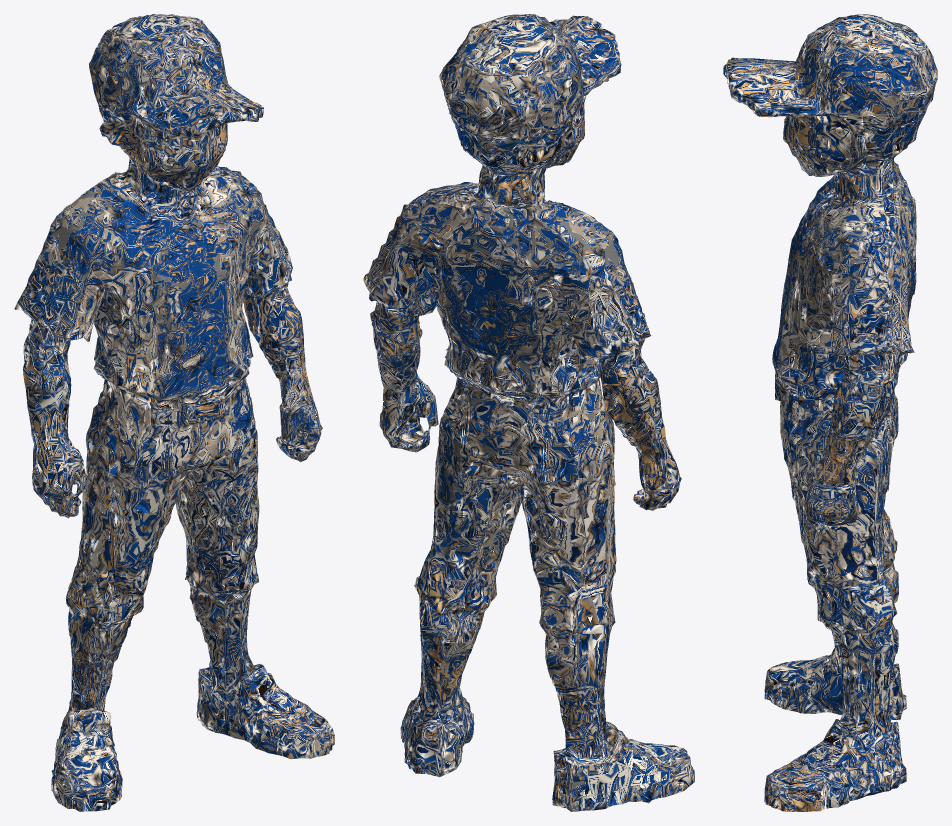
The model's file is player.render.glb.
3 renders of one model, left to right at view 1: azimuth 30°, elevation 25°; view 2: azimuth 150°, elevation 25°; view 3: azimuth 270°, elevation 25°, orthographic. The views are drawn at different scales.
Parts seen in each view (by area): view 1: derived; view 2: derived; view 3: derived.
Boxes of the visible parts, <box> form: derived: <box>14,14,334,811</box>; derived: <box>363,14,694,811</box>; derived: <box>723,14,937,811</box>.
Size of the model in its own units: 0.4005 by 0.9986 by 0.2678.
1 material, 1 textured.
